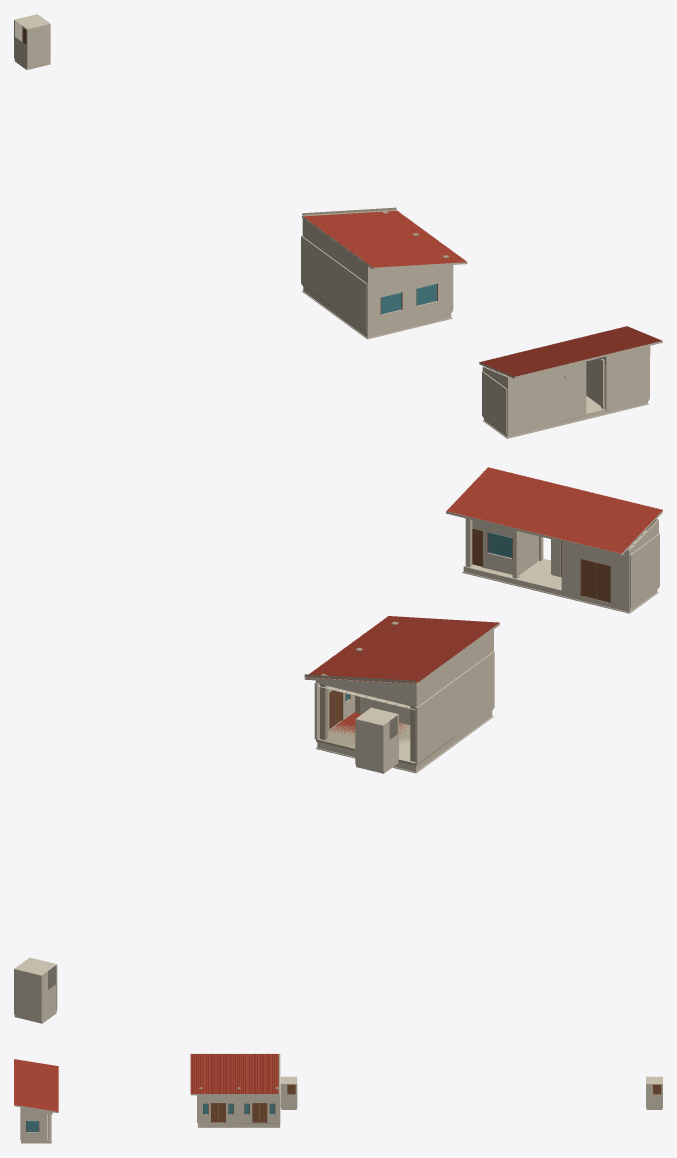
Rendered from penunjang.glb.
The picture shows the model from 3 angles, top to bottom: view 1: azimuth 30°, elevation 25°; view 2: azimuth 150°, elevation 25°; view 3: azimuth 270°, elevation 25°; orthographic projection. The views are drawn at different scales.
Parts seen in each view (by area): view 1: penunjang; view 2: penunjang; view 3: penunjang.
Part boxes in pixels (<box>): penunjang: <box>14,14,662,438</box>; penunjang: <box>14,467,662,1023</box>; penunjang: <box>14,1053,662,1143</box>.
Bounding box in the file's own units: 10.67 × 5.29 × 62.76.
